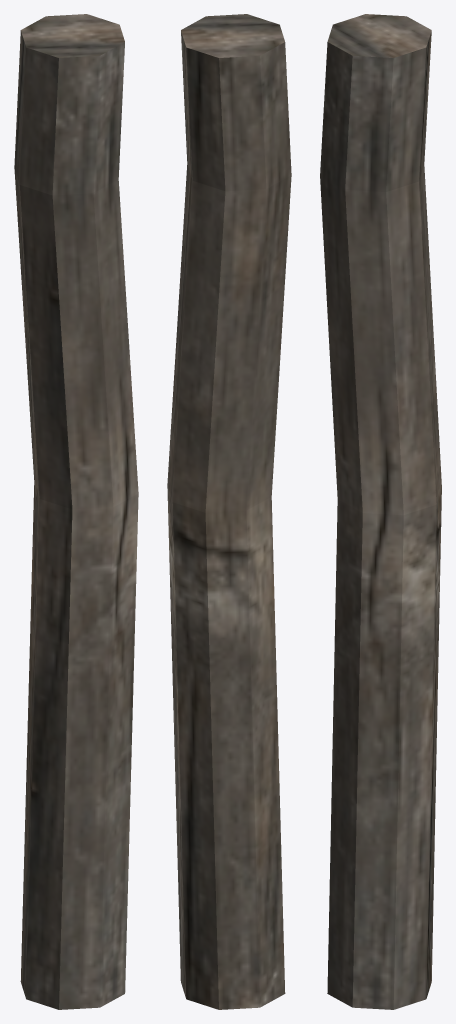
Rendered from FencePole2.fbx.
3 renders of one model, left to right at view 1: azimuth 30°, elevation 25°; view 2: azimuth 210°, elevation 25°; view 3: azimuth 330°, elevation 25°, orthographic.
Visible parts, largest first — view 1: FenceEnd; view 2: FenceEnd; view 3: FenceEnd.
Part boxes in pixels (x1=…): FenceEnd: x1=14, y1=14, x2=138, y2=1009; FenceEnd: x1=167, y1=14, x2=291, y2=1009; FenceEnd: x1=320, y1=14, x2=441, y2=1009.
Bounding box in the file's own units: 53.51 × 433 × 45.94.
Materials: 1 (1 with a texture image).
